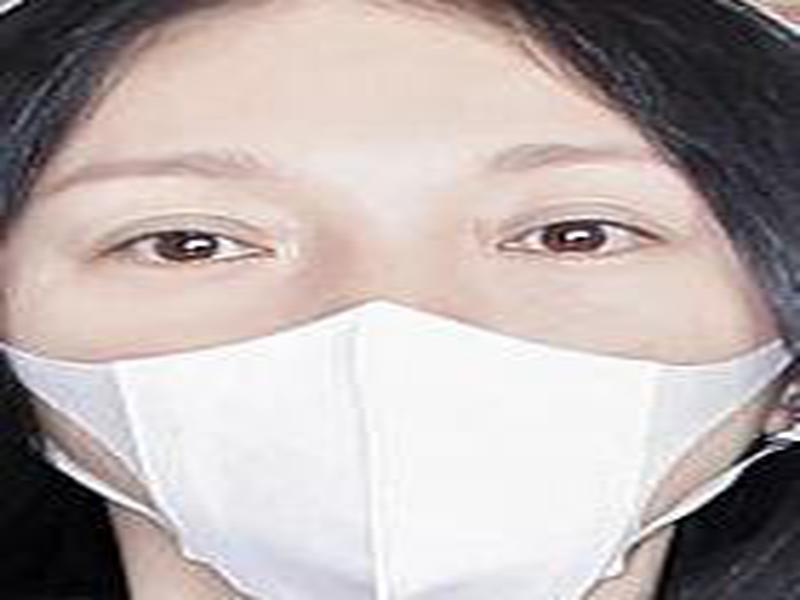with_mask: (1, 11, 774, 600)
